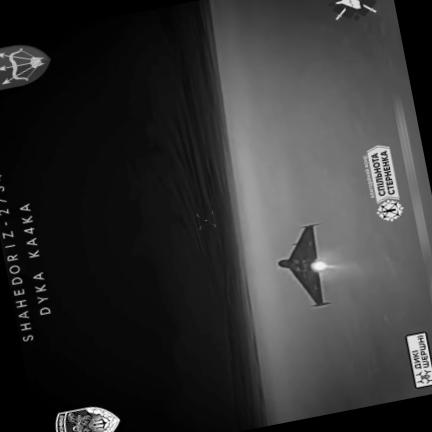Shahed: (278, 222, 330, 306)
